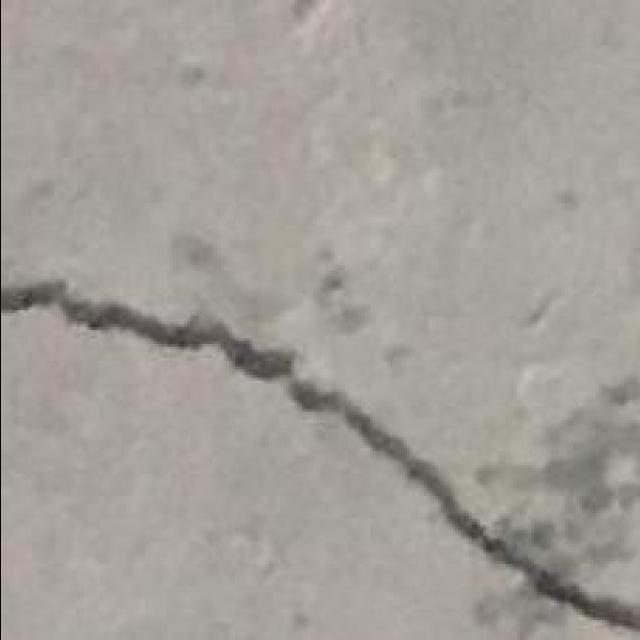Crack: (3, 275, 638, 631)
